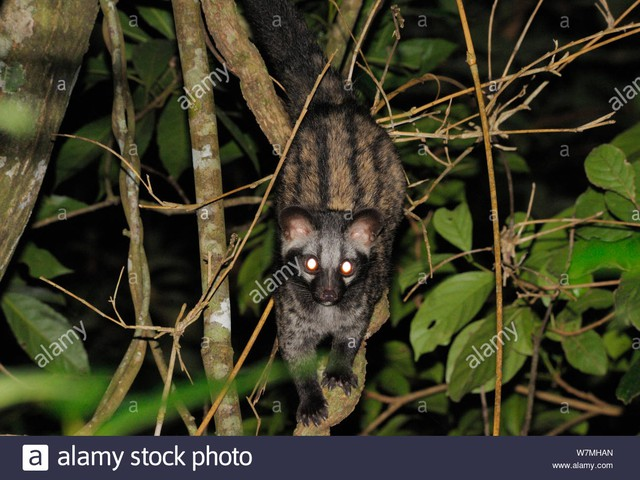civet: (236, 1, 407, 429)
